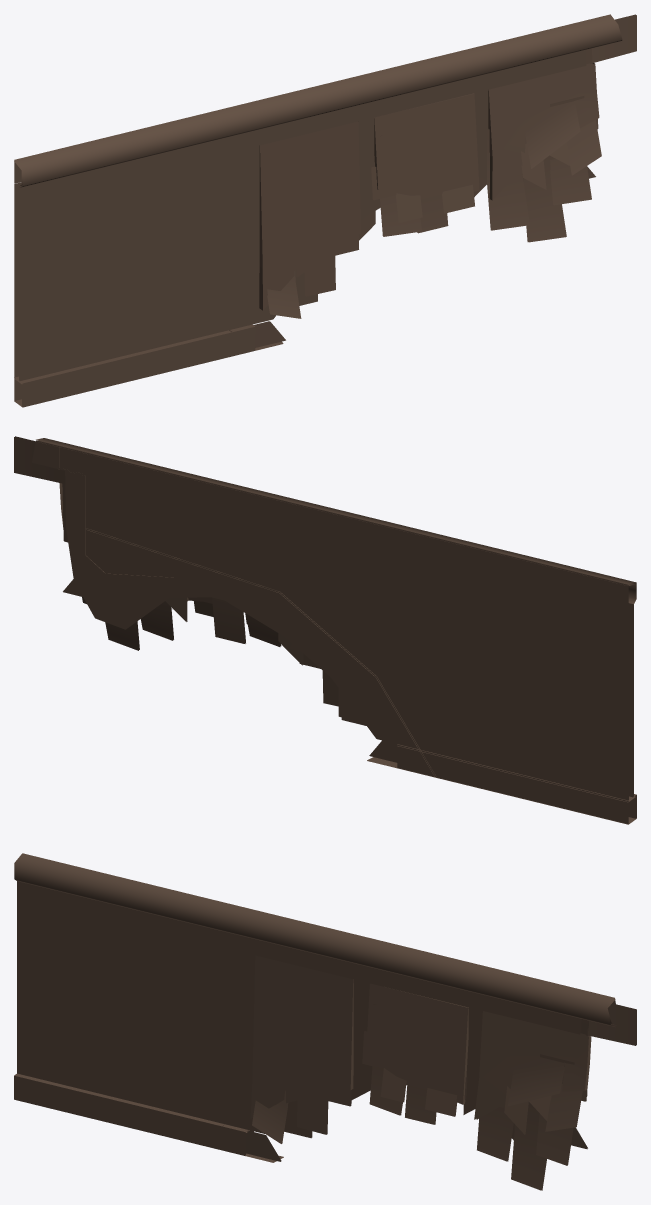
File: DBK_Molding_Bottom_Side_A.fbx
The picture shows the model from 3 angles, top to bottom: view 1: azimuth 30°, elevation 25°; view 2: azimuth 150°, elevation 25°; view 3: azimuth 330°, elevation 25°; orthographic projection.
Parts seen in each view (by area): view 1: DBK_Molding_Bottom_Side_A; view 2: DBK_Molding_Bottom_Side_A; view 3: DBK_Molding_Bottom_Side_A.
Boxes of the visible parts, x1,y1,x2,y2 form: DBK_Molding_Bottom_Side_A: (14, 14, 636, 407); DBK_Molding_Bottom_Side_A: (14, 436, 636, 824); DBK_Molding_Bottom_Side_A: (14, 853, 636, 1190).
Bounding box in the file's own units: 269 × 100 × 12.43.
